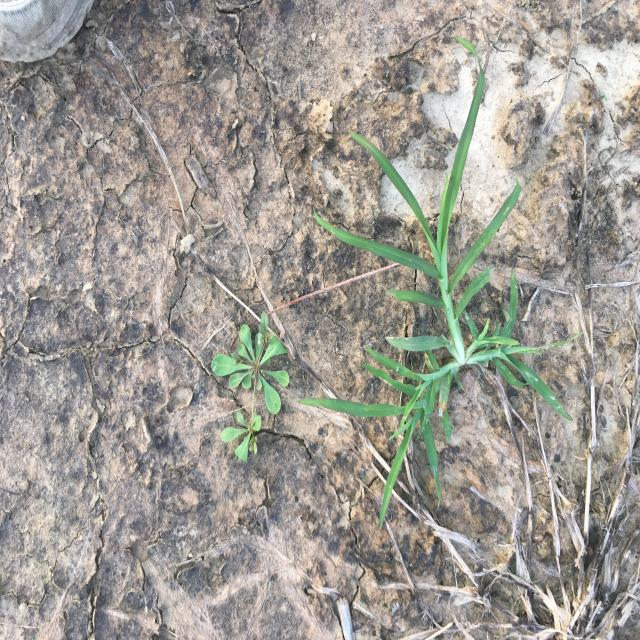Carpetweed: (210, 310, 290, 466)
Goosegrass: (295, 36, 586, 532)
